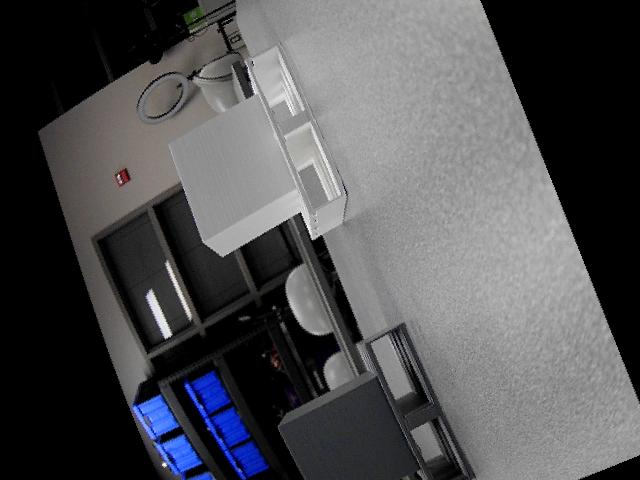grey pallet: (275, 317, 480, 480)
white pallet: (166, 39, 352, 261)
